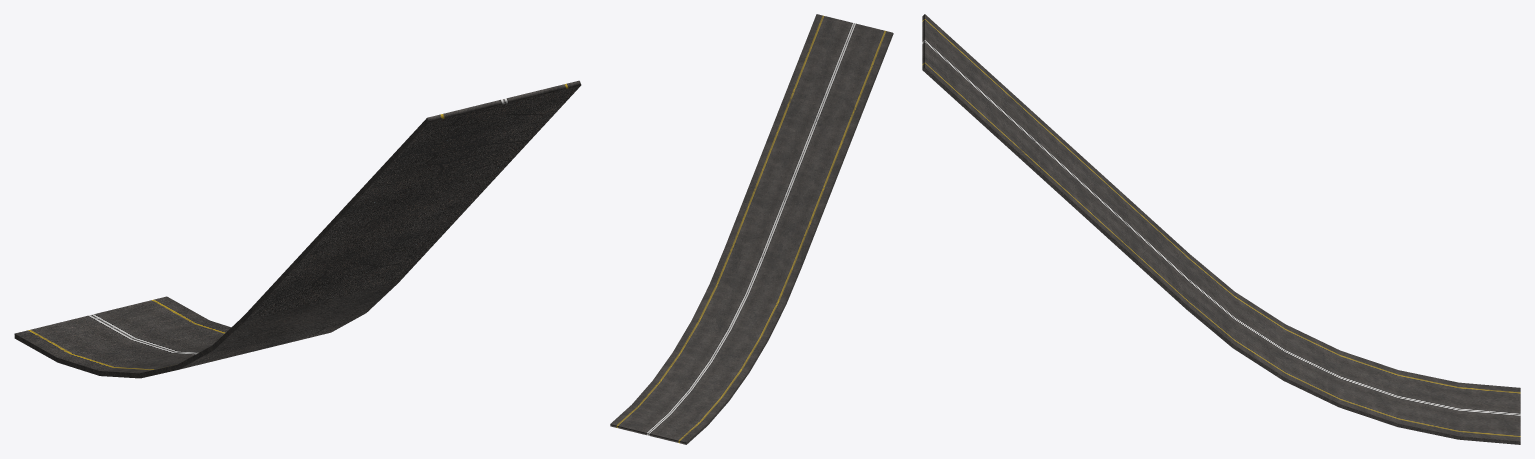
The model's file is Road_03.fbx.
3 views of the same model, side by side, from view 1: azimuth 30°, elevation 25°; view 2: azimuth 150°, elevation 25°; view 3: azimuth 270°, elevation 25° (orthographic). The views are drawn at different scales.
Visible parts, largest first — view 1: Road_03; view 2: Road_03; view 3: Road_03.
Part boxes in pixels (x1,y1,x2,y2): Road_03: [14, 80, 581, 378]; Road_03: [610, 14, 893, 444]; Road_03: [922, 14, 1520, 444].
Size of the model in its own units: 999 by 3274 by 4707.
